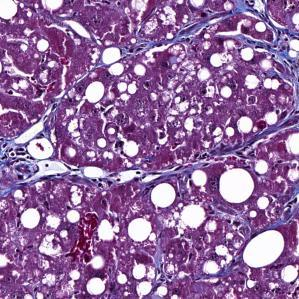fibrosis: (0, 131, 58, 194)
